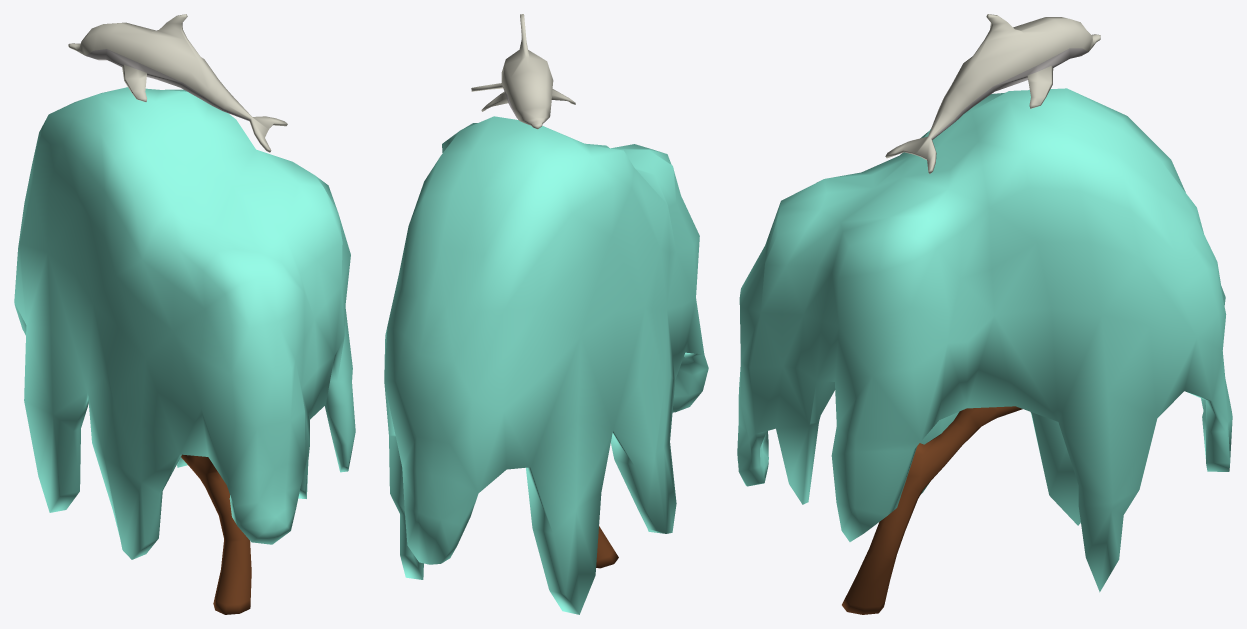
File: Tree-Dolphin-no2.gltf
3 views of the same model, side by side, from view 1: azimuth 30°, elevation 25°; view 2: azimuth 150°, elevation 25°; view 3: azimuth 270°, elevation 25° (orthographic). The views are drawn at different scales.
Parts seen in each view (by area): view 1: Tree-Dolphin-no2; view 2: Tree-Dolphin-no2; view 3: Tree-Dolphin-no2.
Part boxes in pixels (bbox=[...]): Tree-Dolphin-no2: bbox=[14, 14, 355, 614]; Tree-Dolphin-no2: bbox=[384, 14, 708, 614]; Tree-Dolphin-no2: bbox=[737, 14, 1232, 614].
Size of the model in its own units: 1.45 by 3.4 by 2.55.
1 material, 1 textured.
